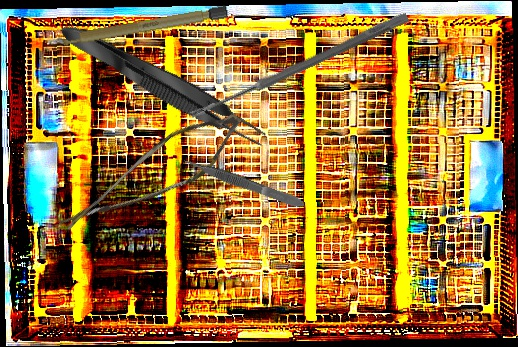Micro Scissor: (57, 84, 251, 270)
Scalpel Handle: (53, 4, 230, 49)
Surgical Spoon: (189, 10, 410, 122)
Tissue Forceps: (53, 13, 273, 155), (181, 153, 307, 212)
